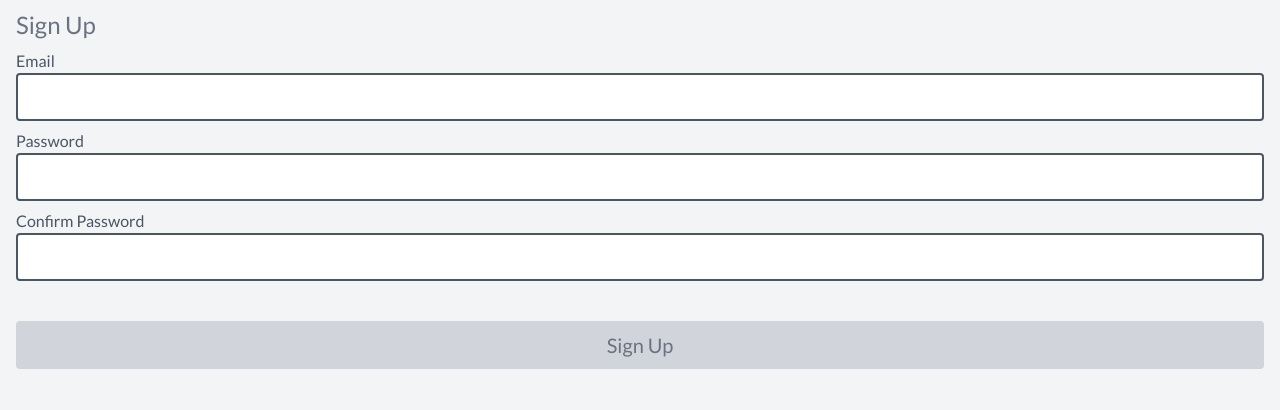
Test: SignupComponent › Email is valid and Passwords don't match
Type "user1@validemail.com" into the field labelled "Email" at (640,97), box [16,73,1264,121]
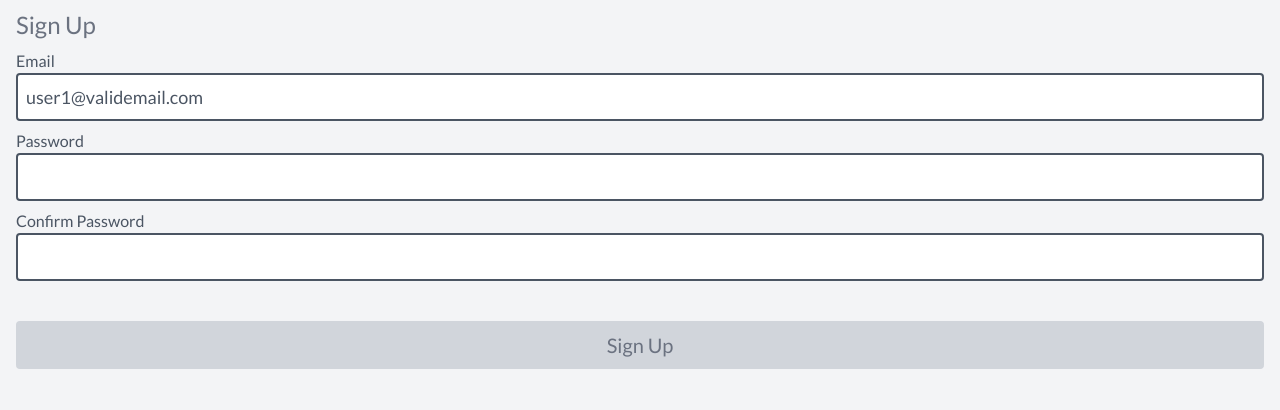
Type "Password#123" into the password field labelled "Password" at (640,177), box [16,153,1264,201]
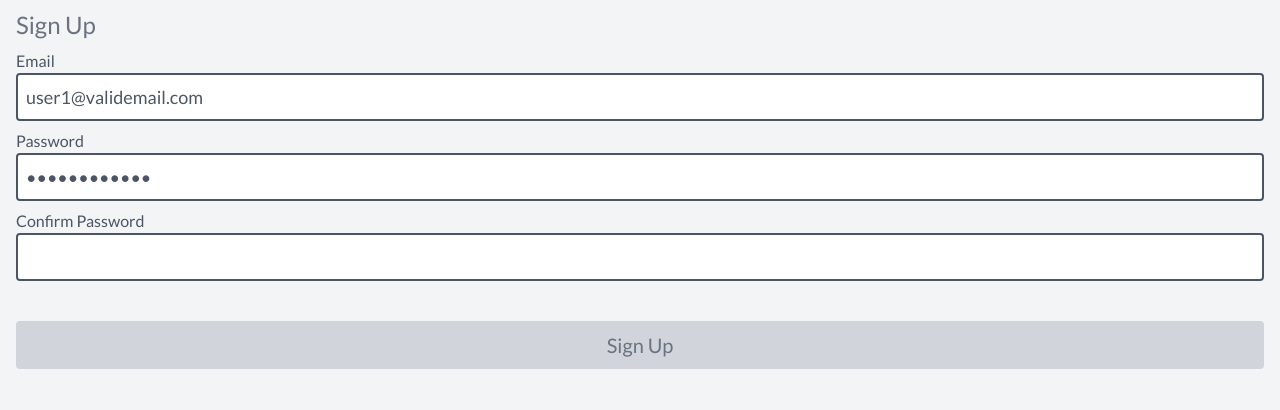
Type "ssword#123" into the password field labelled "Confirm Password" at (640,257), box [16,233,1264,281]
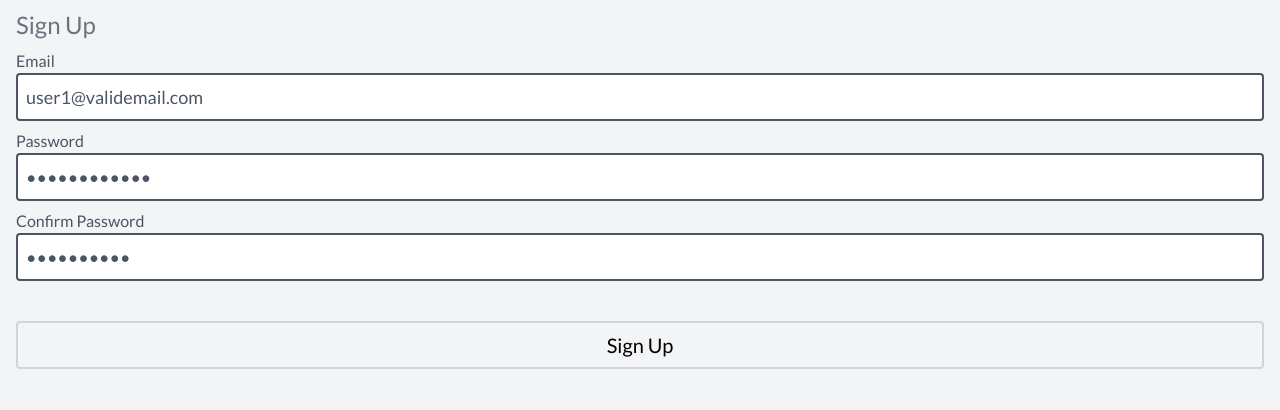
Click the button with id "btn_submit" at (640,345), box [16,321,1264,369]
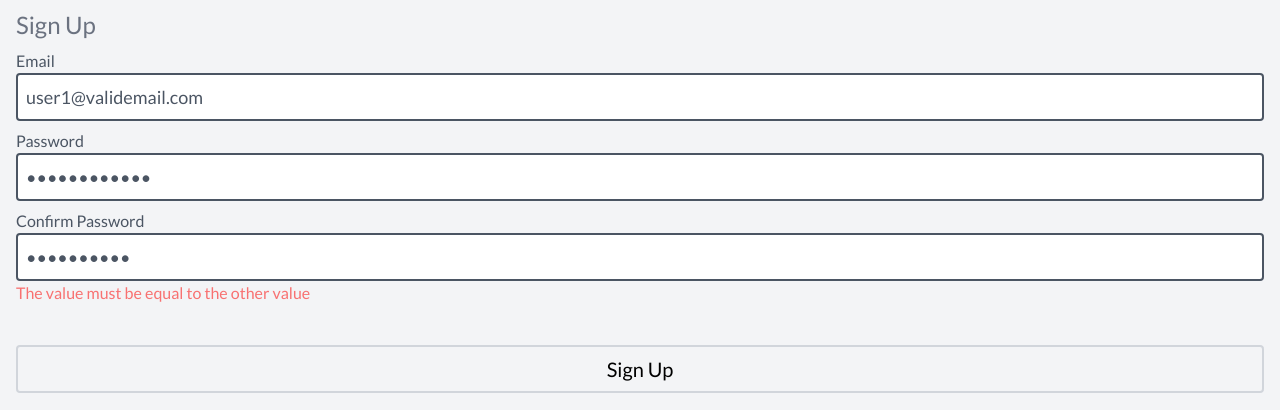
Now the text "The value must be equal to the other value" is shown, box [16,283,310,302]
